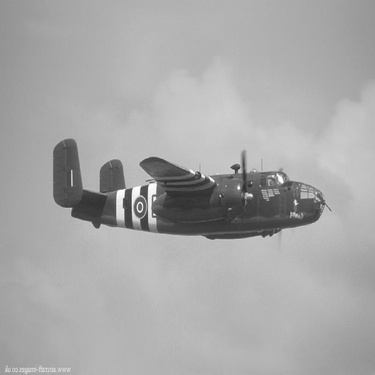airplane: (33, 133, 334, 246)
